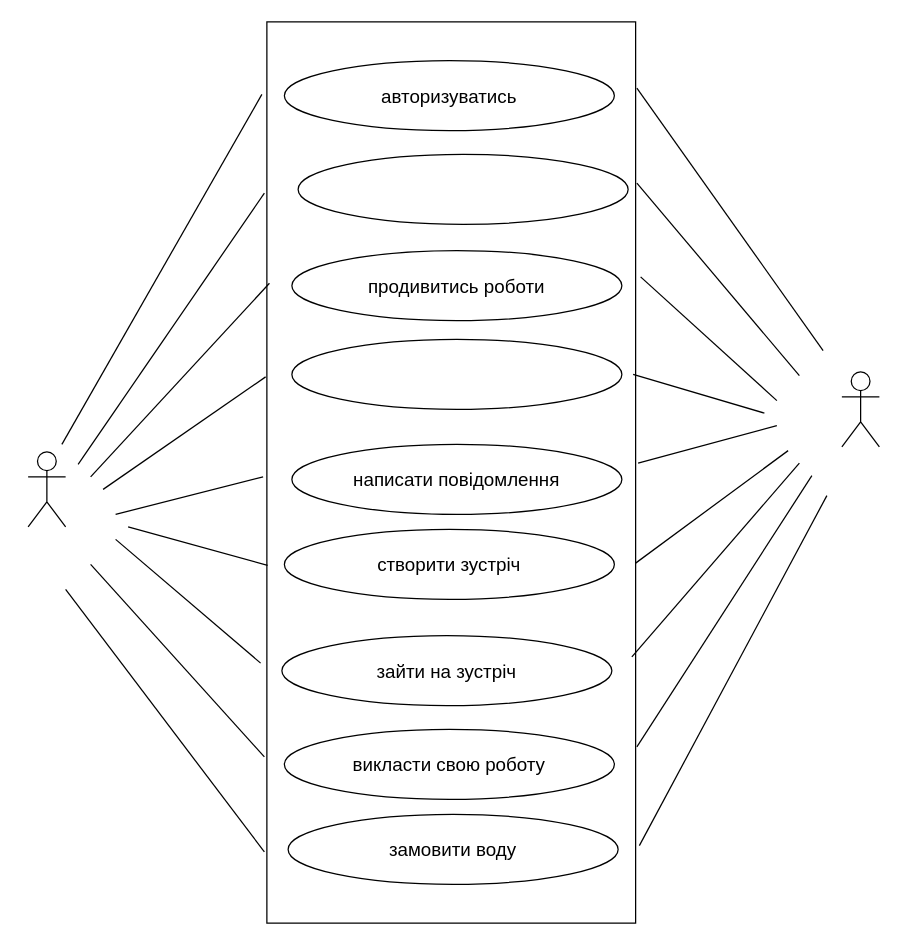
Some shapes in this 916 by 945 pixel diagram are drawn without their labels. Each missing label, with the centre of its shape:
"Аматор" belongs at (46,489).
"відкрити стрічку" belongs at (462,188).
"оцінити роботу" belongs at (456,373).
"Художник" belongs at (860,409).
